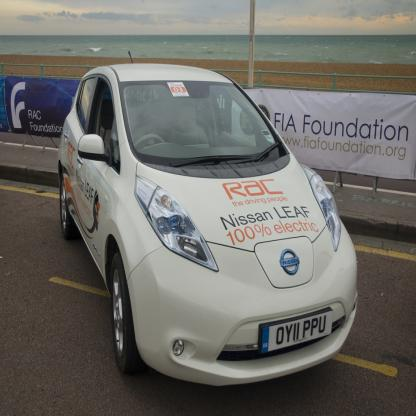Car: (57, 58, 364, 392)
